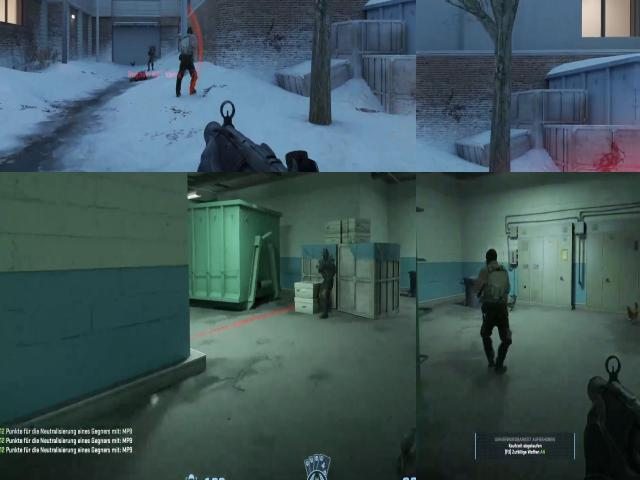CT: (314, 241, 340, 312), (148, 46, 157, 70)
CT-Head: (321, 246, 330, 264), (148, 46, 152, 53)
Dead: (129, 70, 151, 82)
T: (475, 245, 512, 319), (176, 31, 197, 71)
T-Head: (483, 248, 500, 271), (184, 26, 194, 38)
